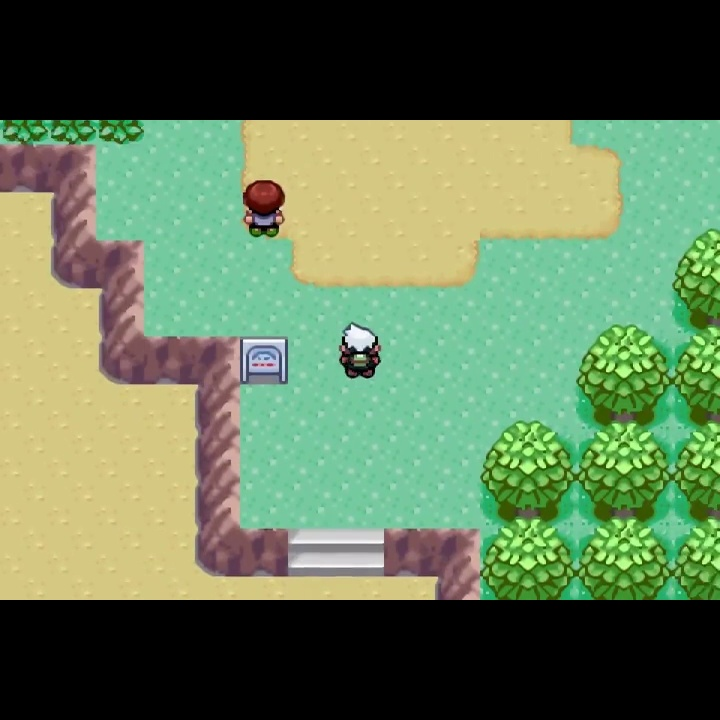grass: (97, 121, 145, 145), (48, 121, 97, 144), (1, 120, 49, 142)
npc: (333, 318, 386, 380), (237, 176, 289, 239)
wall: (576, 421, 674, 522), (575, 324, 673, 424), (480, 419, 577, 518), (576, 516, 675, 599), (480, 517, 577, 599), (670, 227, 720, 326), (672, 324, 720, 421), (673, 422, 720, 518), (674, 516, 720, 601)
